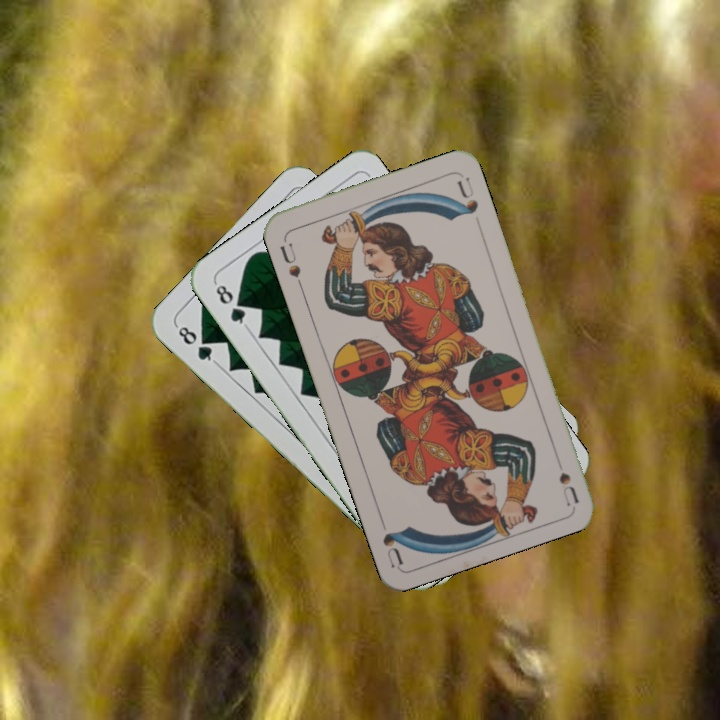G8: (172, 321, 219, 366), (211, 279, 251, 330)
SU: (550, 448, 582, 507), (276, 234, 306, 292)
